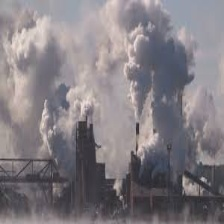smoke: (114, 8, 224, 180), (2, 7, 81, 160)
